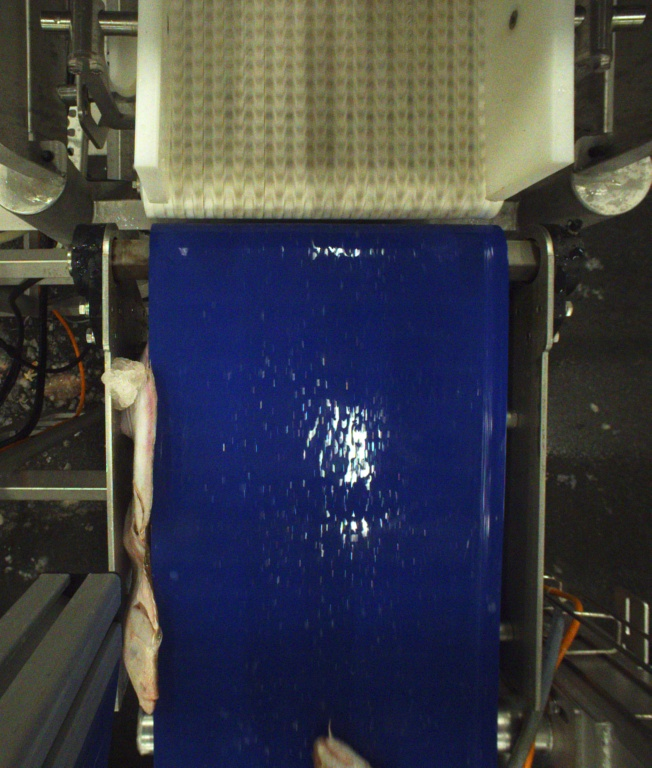BIB: (312, 722, 378, 768)
